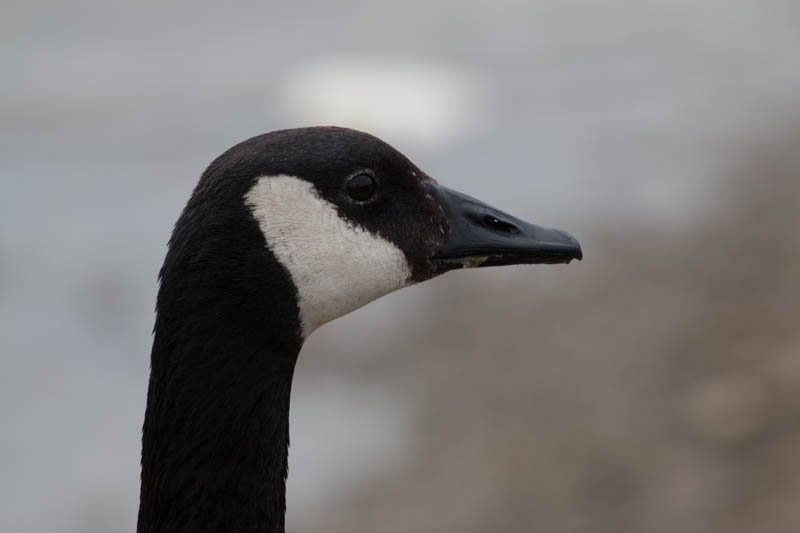goose-head: (158, 125, 583, 341)
